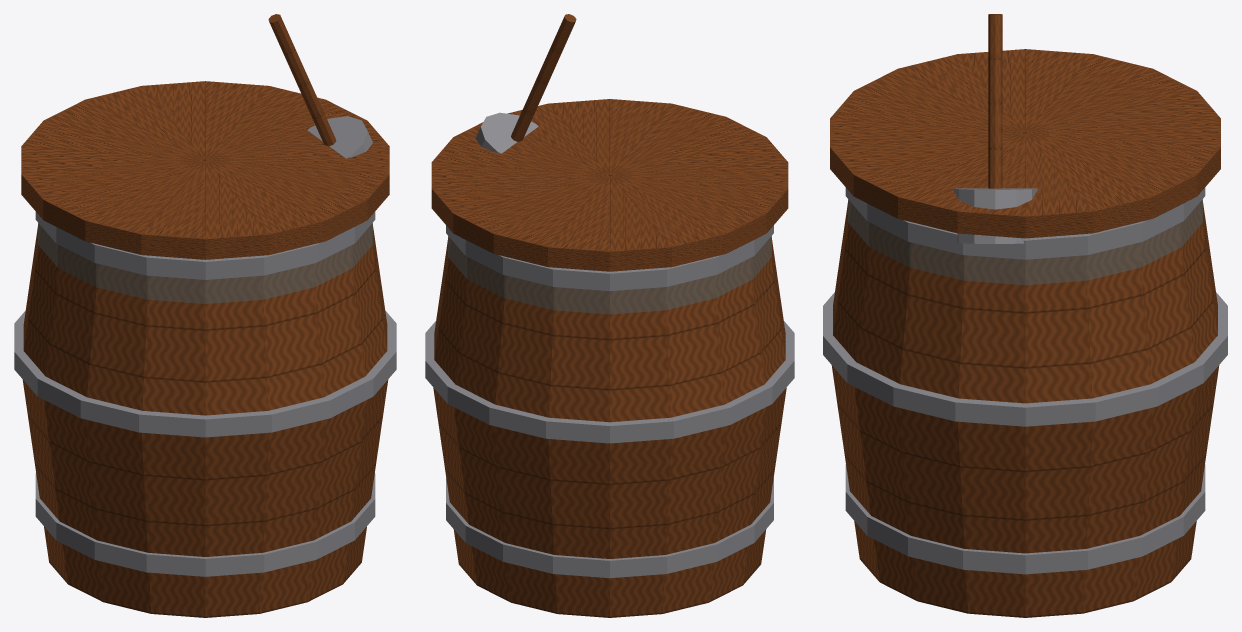
File: slack-tub-0-8-m.glb
3 renders of one model, left to right at view 1: azimuth 30°, elevation 25°; view 2: azimuth 150°, elevation 25°; view 3: azimuth 270°, elevation 25°, orthographic. The views are drawn at different scales.
Parts seen in each view (by area): view 1: blacksmith-forge-and-armoury-slack-tub; view 2: blacksmith-forge-and-armoury-slack-tub; view 3: blacksmith-forge-and-armoury-slack-tub.
Part boxes in pixels (x1,y1,x2,y2): blacksmith-forge-and-armoury-slack-tub: [14, 14, 396, 617]; blacksmith-forge-and-armoury-slack-tub: [425, 14, 794, 617]; blacksmith-forge-and-armoury-slack-tub: [823, 14, 1227, 617].
Size of the model in its own units: 0.684 by 1.03 by 0.6736.
Materials: 3 (1 with a texture image).
